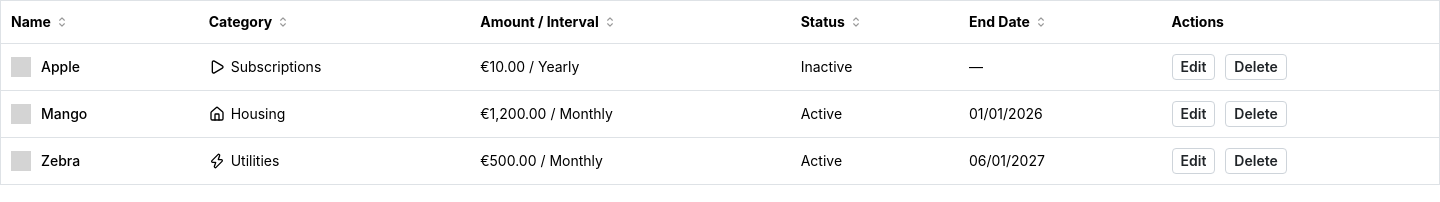
Test: ContractTable – sort indicators › after clicking a sortable header once, that header shows an ascending icon
Click the column heading "Name".
click(100, 22)  # box [0,0,199,43]
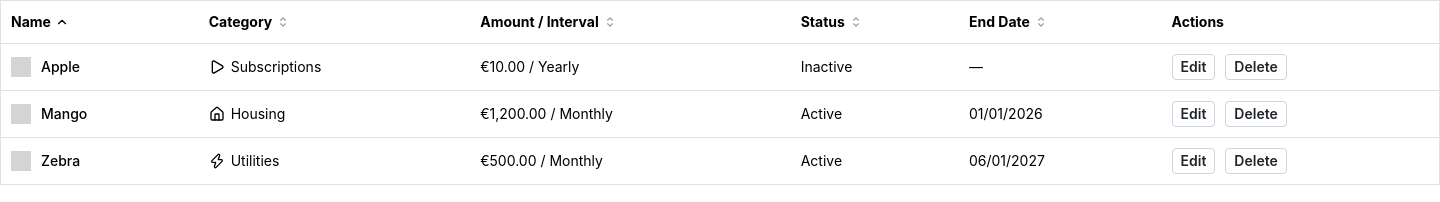
Expected: the picture named "Sorted ascending" is shown, [55,15,69,29]
